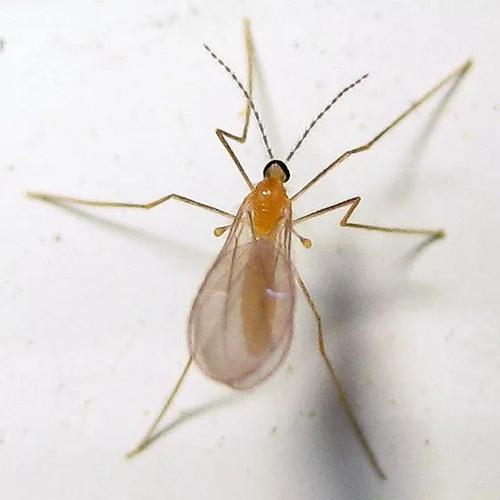Cecidomyiidae: (25, 18, 494, 481)
